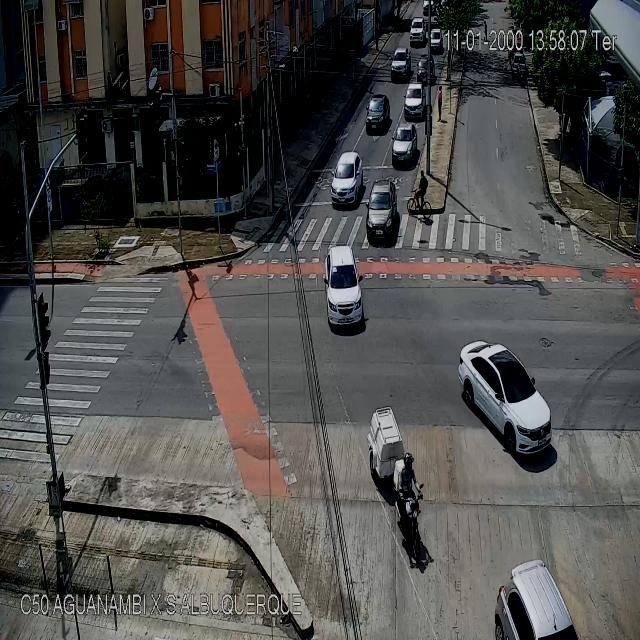Car: (459, 342, 553, 460), (494, 556, 576, 640), (322, 246, 363, 329), (330, 151, 362, 206), (366, 179, 395, 239), (392, 124, 417, 166), (366, 96, 388, 130), (404, 82, 424, 118), (390, 48, 411, 78), (409, 17, 427, 47), (417, 53, 434, 83), (428, 28, 442, 54), (510, 50, 524, 74)
Motorcycle: (394, 453, 424, 562), (516, 63, 524, 82)
